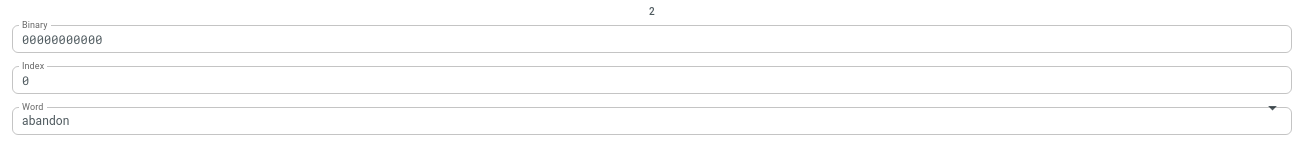
mnemonic group item › should change inputs if the index input has changed
Replace the text in the number field labelled "Index" with "32". click: {"x": 652, "y": 80}
box: x1=12 y1=66 x2=1292 y2=94
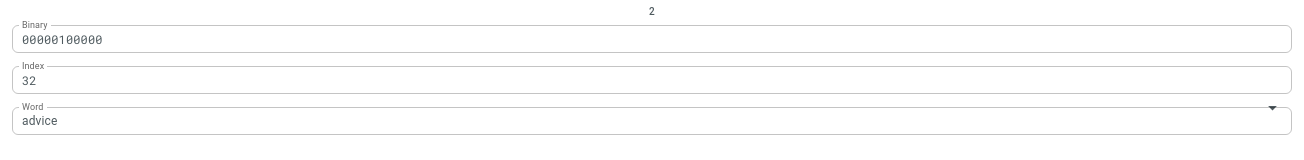
Check: the field labelled "Binary" holds "00000100000", box x1=12 y1=24 x2=1292 y2=52
Check: the dropdown labelled "Word" holds "advice", box x1=12 y1=106 x2=1236 y2=134
Clear the number field labelled "Index". click: {"x": 652, "y": 80}
box: x1=12 y1=66 x2=1292 y2=94
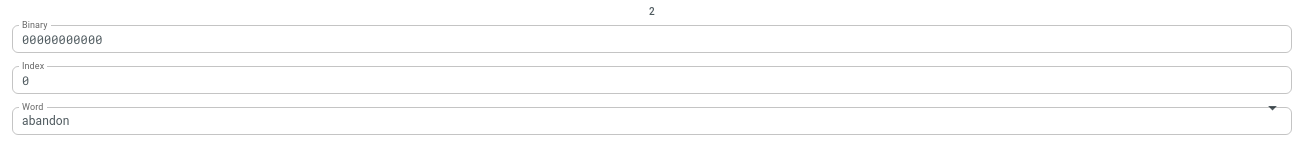
Check: the field labelled "Binary" holds "00000000000", box x1=12 y1=24 x2=1292 y2=52
Check: the number field labelled "Index" holds "0"
Check: the dropdown labelled "Word" holds "abandon", box x1=12 y1=106 x2=1236 y2=134
Replace the text in the number field labelled "Index" with "3000". click: {"x": 652, "y": 80}
box: x1=12 y1=66 x2=1292 y2=94
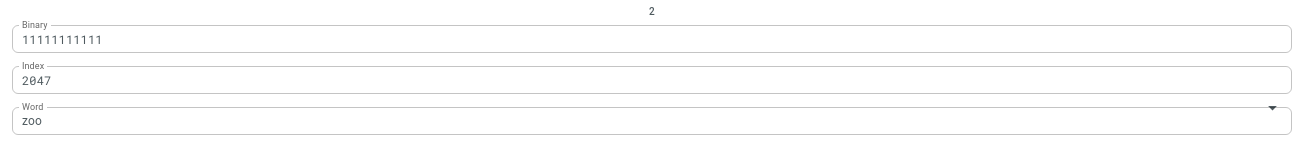
Check: the field labelled "Binary" holds "11111111111", box x1=12 y1=24 x2=1292 y2=52
Check: the number field labelled "Index" holds "2047", box x1=12 y1=66 x2=1292 y2=94
Check: the dropdown labelled "Word" holds "zoo", box x1=12 y1=106 x2=1236 y2=134
